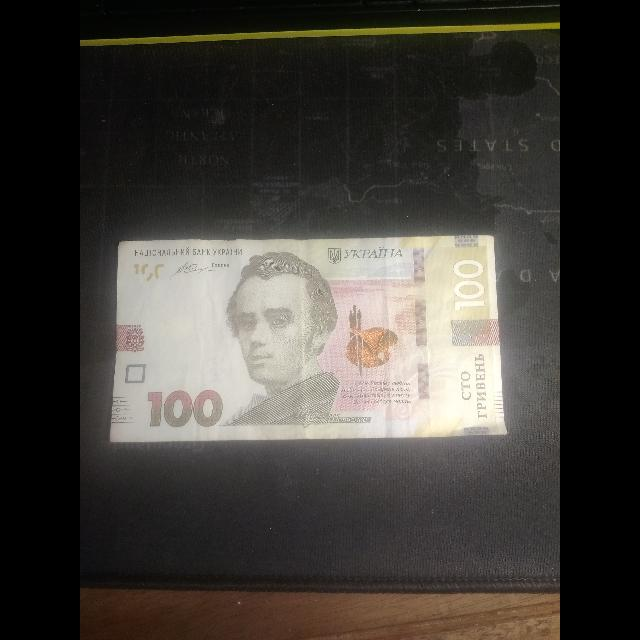100uah: (109, 241, 508, 442)
